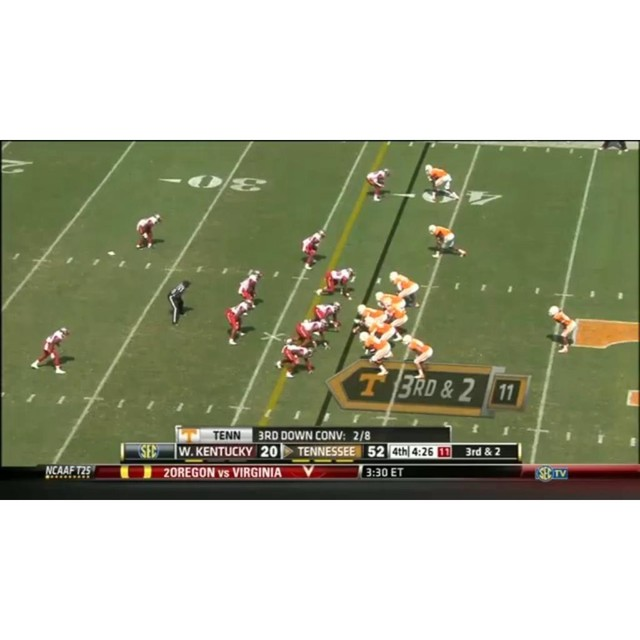american-football-player: (31, 327, 70, 374), (547, 305, 579, 354), (276, 339, 314, 380), (359, 333, 393, 377), (402, 333, 433, 380), (424, 164, 461, 203), (428, 224, 467, 259), (315, 268, 355, 300), (389, 270, 422, 308), (225, 299, 252, 345), (296, 318, 331, 350), (237, 269, 263, 308), (353, 304, 389, 332), (382, 303, 409, 340), (301, 230, 326, 268), (136, 214, 162, 250), (366, 167, 391, 202), (312, 303, 342, 332), (376, 291, 407, 311)
referee: (168, 279, 192, 327)
